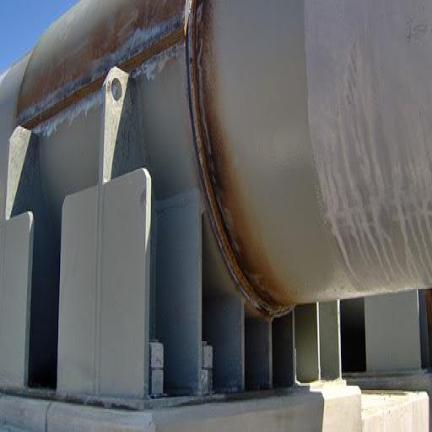besi_tidak_karat: (210, 1, 430, 304), (58, 170, 151, 396), (1, 0, 151, 138), (156, 189, 200, 392), (0, 212, 33, 387), (99, 66, 143, 182), (202, 296, 243, 390), (4, 126, 36, 218), (294, 303, 320, 379), (246, 318, 271, 389), (318, 302, 340, 377), (273, 314, 294, 386)
karat: (192, 2, 292, 315), (17, 1, 185, 129)
